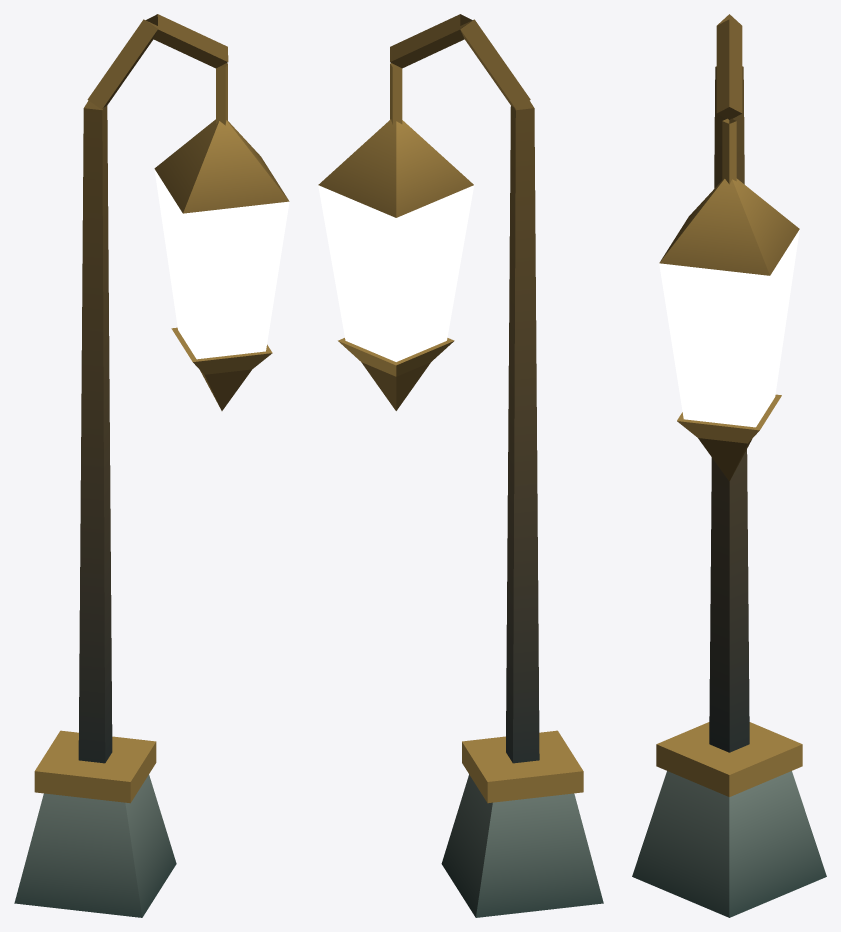
The model's file is hanging-lantern-lod1.glb.
3 renders of one model, left to right at view 1: azimuth 30°, elevation 25°; view 2: azimuth 150°, elevation 25°; view 3: azimuth 270°, elevation 25°, orthographic. The views are drawn at different scales.
Parts seen in each view (by area): view 1: gg_hanging_lantern_lod1; view 2: gg_hanging_lantern_lod1; view 3: gg_hanging_lantern_lod1.
Part boxes in pixels (x1,y1,x2,y2): gg_hanging_lantern_lod1: (14, 14, 289, 917); gg_hanging_lantern_lod1: (318, 14, 603, 917); gg_hanging_lantern_lod1: (632, 14, 826, 917).
Size of the model in its own units: 0.7872 by 2.41 by 0.48.
